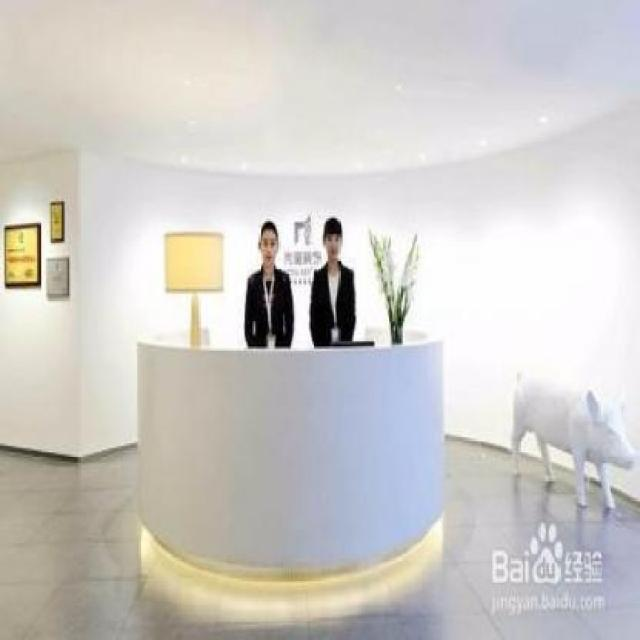frontdesk: (130, 324, 448, 596)
